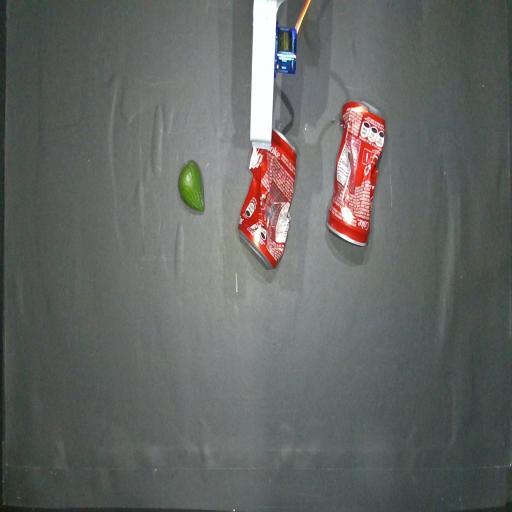higo: (178, 160, 204, 211)
lata_defectuoso: (326, 101, 385, 246), (238, 129, 297, 269)
